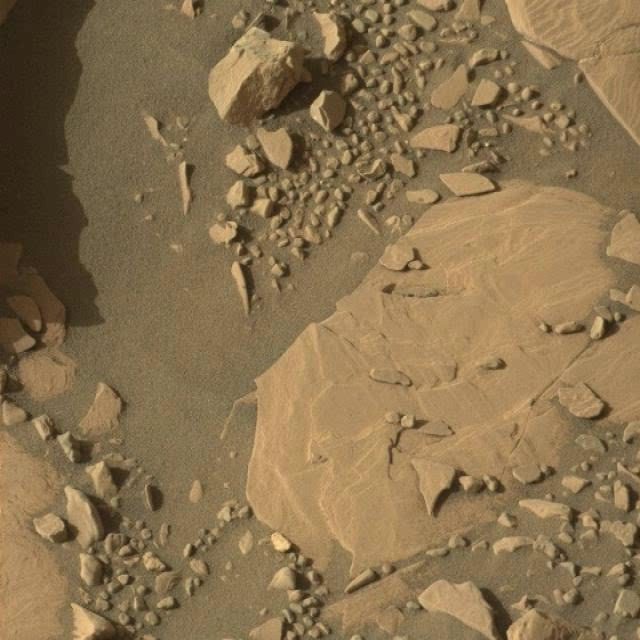rock: (209, 25, 297, 124), (417, 581, 499, 639), (293, 10, 348, 60), (62, 486, 103, 548), (413, 460, 456, 516), (310, 89, 347, 131), (257, 124, 292, 168), (409, 124, 462, 152), (225, 144, 265, 178), (544, 625, 579, 640), (618, 609, 640, 632), (281, 610, 297, 640)
